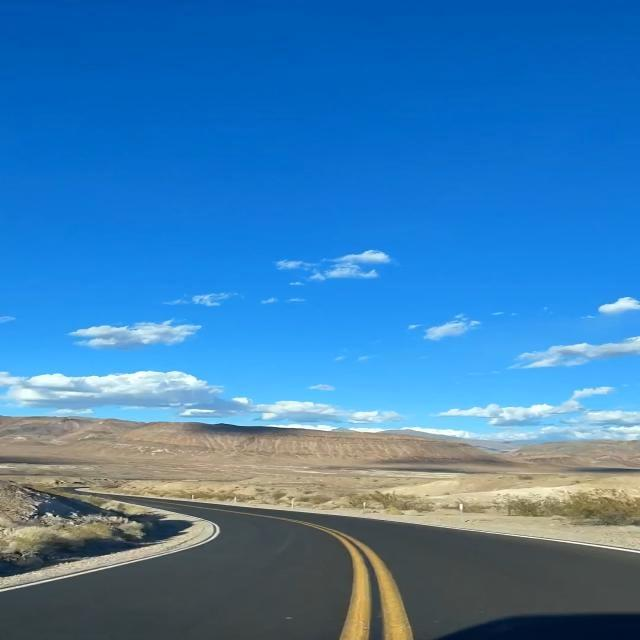road: (0, 497, 639, 639)
